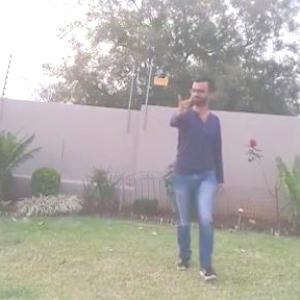takeoff-hand: (172, 86, 198, 116)
